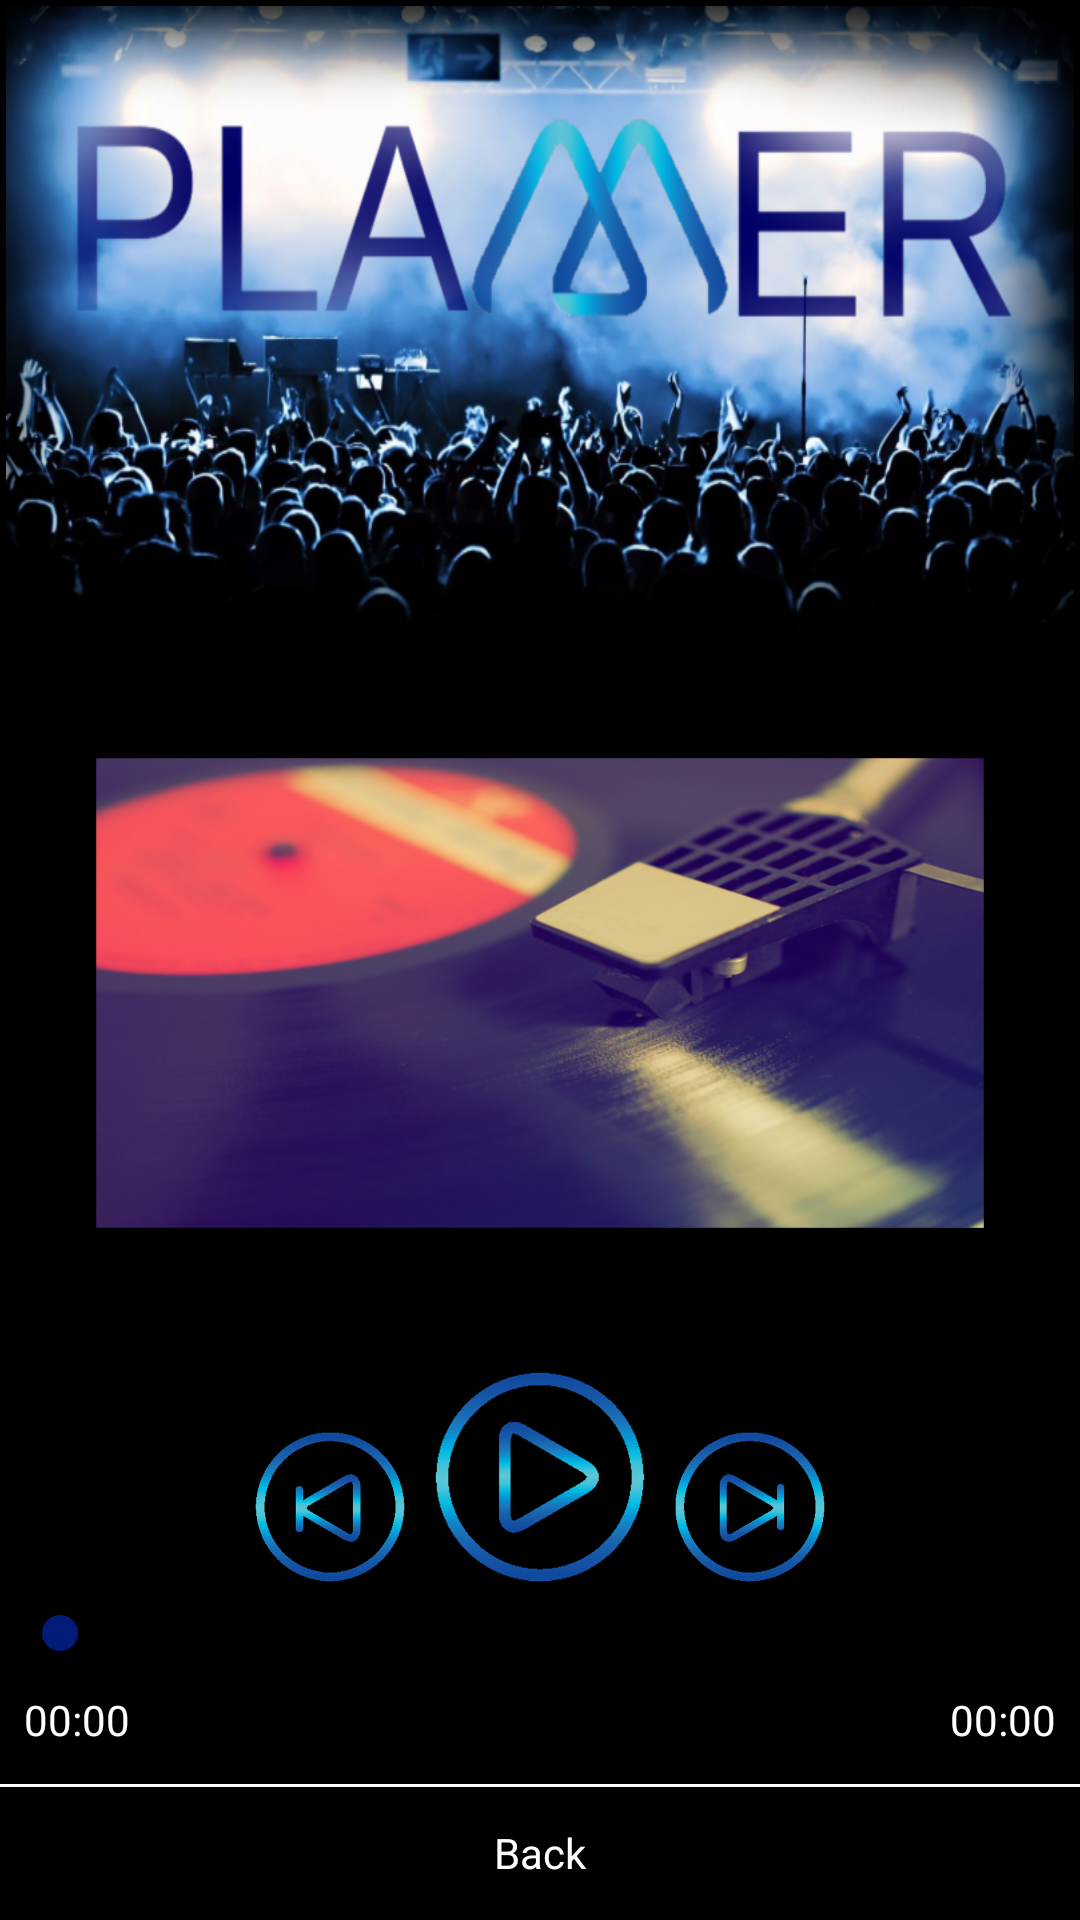

Named icons in this screenshot (1080×1920) and their centers, (x=x, y=y):
Next Button: (x=750, y=1507)
Play Button: (x=540, y=1477)
Previous Button: (x=330, y=1507)
